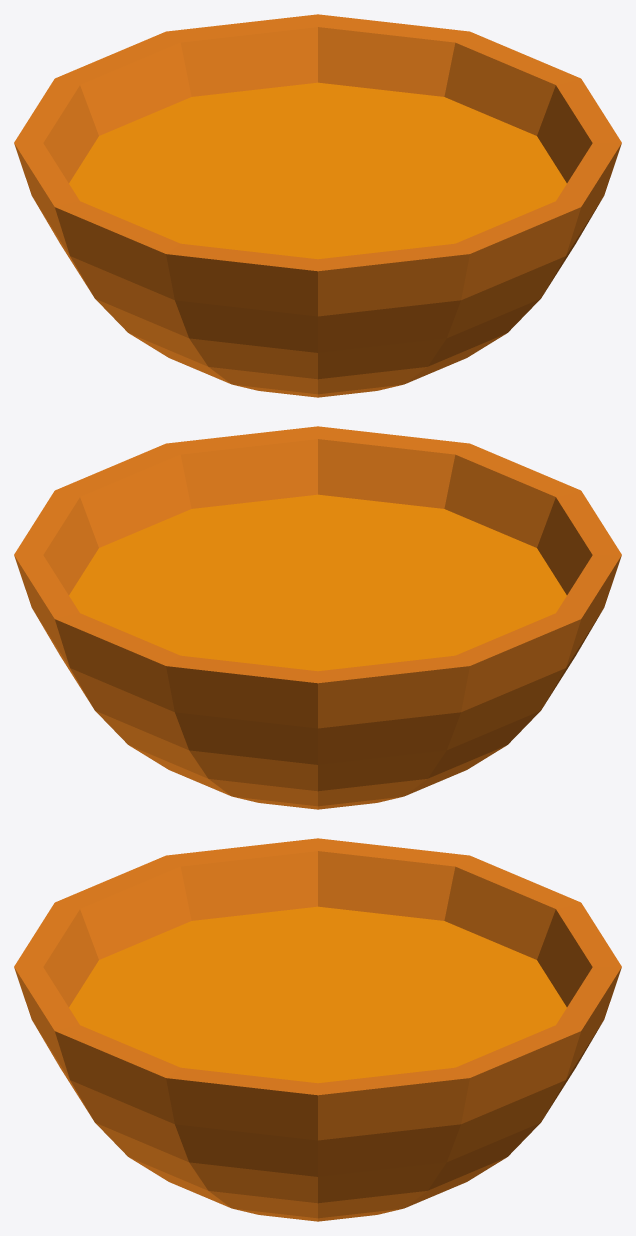
Rendered from Soap_Plate_06.fbx.
3 renders of one model, top to bottom at view 1: azimuth 30°, elevation 25°; view 2: azimuth 150°, elevation 25°; view 3: azimuth 270°, elevation 25°, orthographic.
Visible parts, largest first — view 1: Soap_Plate_06_LOD0; view 2: Soap_Plate_06_LOD0; view 3: Soap_Plate_06_LOD0.
Part boxes in pixels (box(x1,y1,x2,y2)): Soap_Plate_06_LOD0: box(14, 14, 621, 397); Soap_Plate_06_LOD0: box(14, 426, 621, 809); Soap_Plate_06_LOD0: box(14, 838, 621, 1221).
Size of what is drawn, in the model's own units: 0.2799 by 0.1149 by 0.2799.
